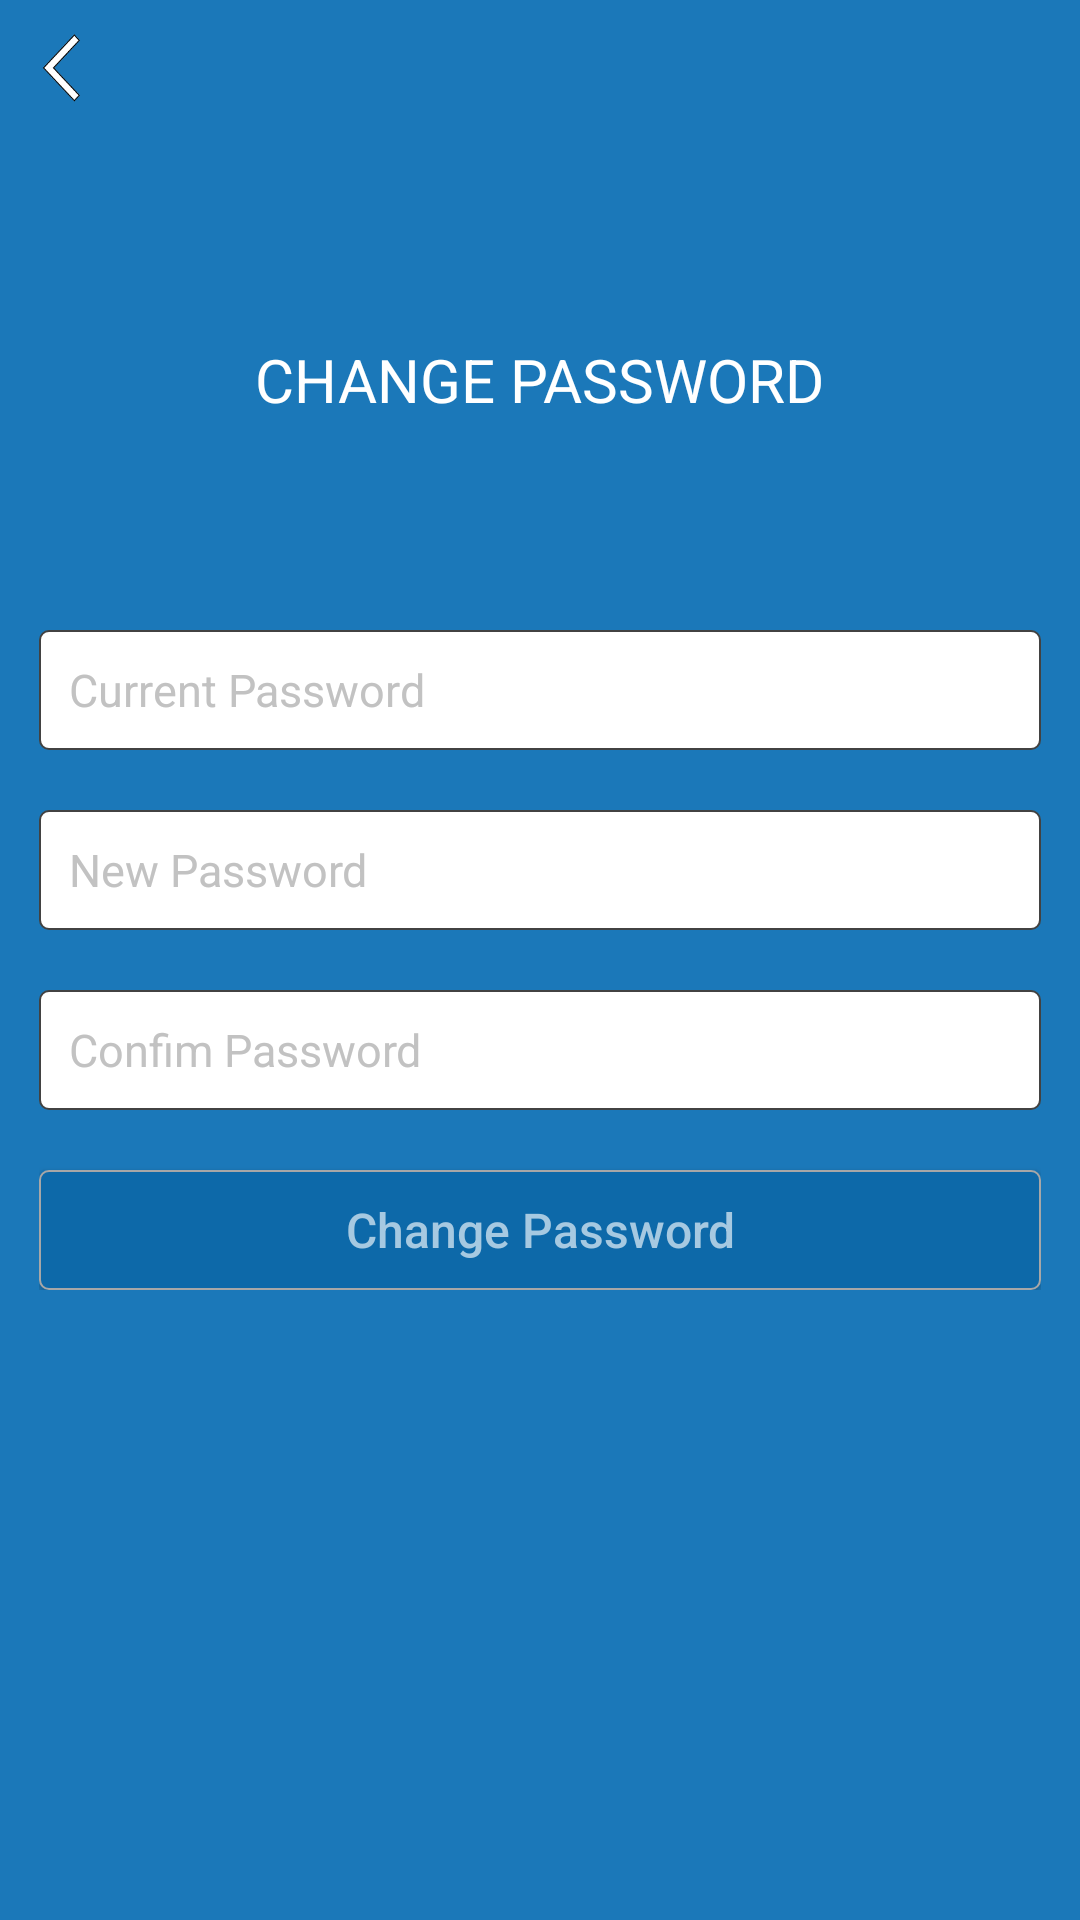

Screen size 1080*1920. Icon name, then its box in pixels as (x1, y1, x2, y2):
back: (43, 34, 80, 102)
